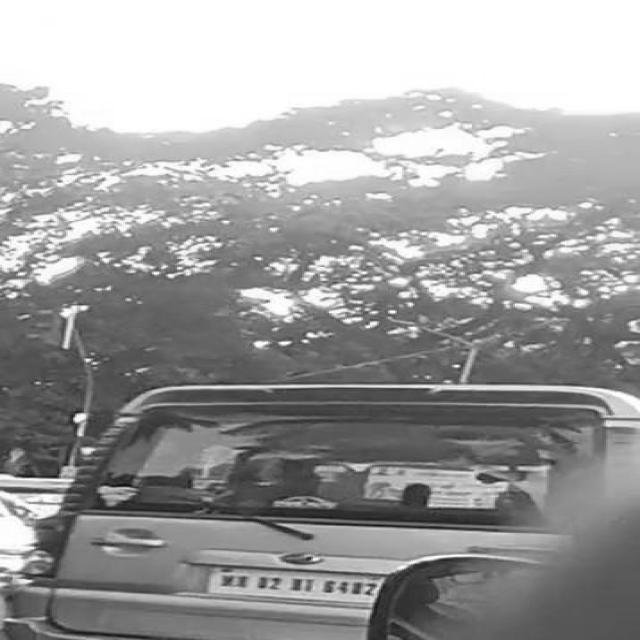license-plate: (218, 558, 390, 610)
